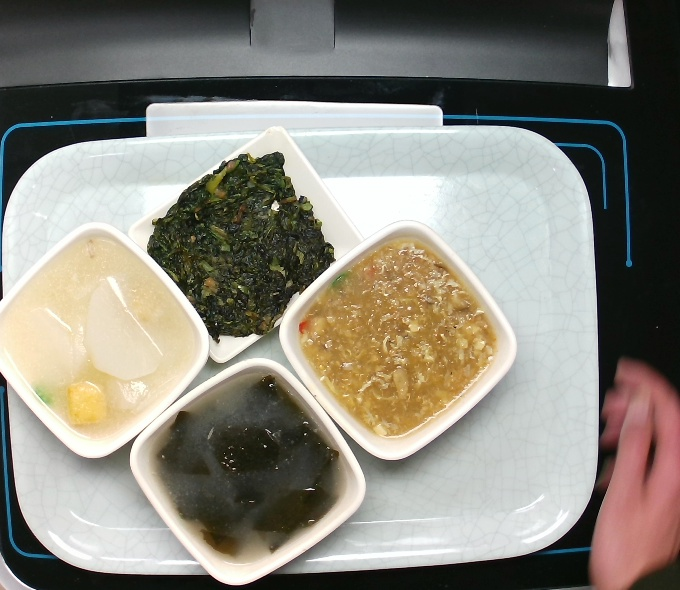wcq-HaiDaiPaiGuTang: (167, 383, 330, 551)
wcq-LuoBoYouPaoTang: (24, 261, 187, 422)
wcq-QinCaiBing: (173, 159, 320, 330)
wcq-SuanLaGeng: (325, 274, 484, 408)
